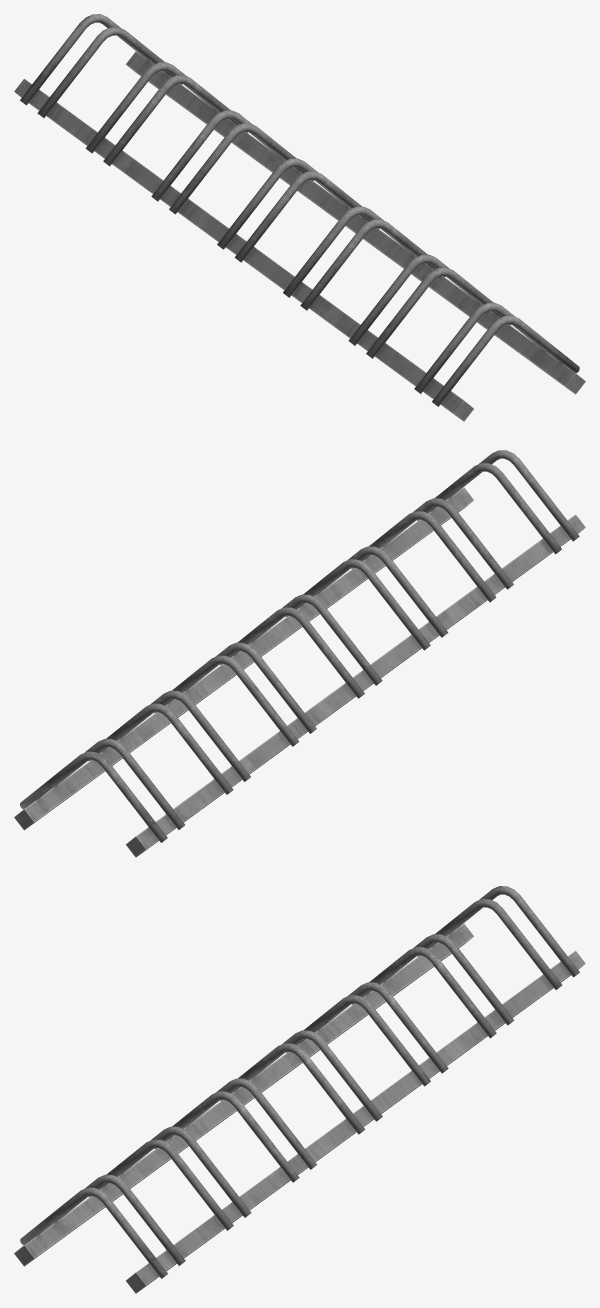
The model's file is SM_BicicleRack.fbx.
3 renders of one model, top to bottom at view 1: azimuth 30°, elevation 25°; view 2: azimuth 150°, elevation 25°; view 3: azimuth 330°, elevation 25°, orthographic.
Visible parts, largest first — view 1: SM_BicicleRack_LOD0; view 2: SM_BicicleRack_LOD0; view 3: SM_BicicleRack_LOD0.
Boxes of the visible parts, x1,y1,x2,y2 form: SM_BicicleRack_LOD0: (14, 14, 585, 421); SM_BicicleRack_LOD0: (14, 450, 585, 857); SM_BicicleRack_LOD0: (14, 886, 585, 1293).
Bounding box in the file's own units: 50.89 × 264 × 27.11.
1 material, 1 textured.
